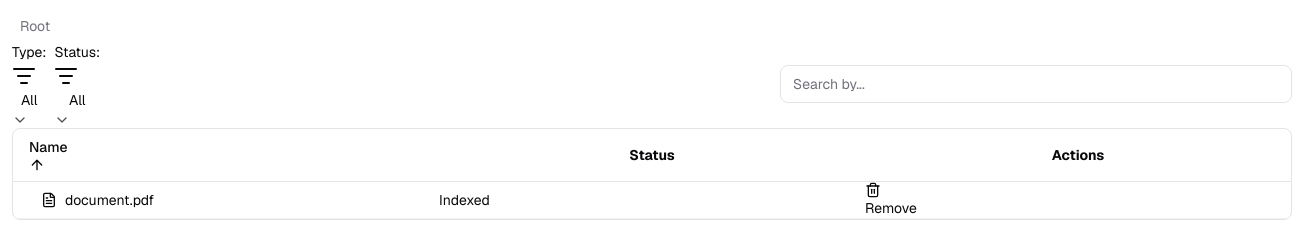
Test case: FilePickerGoogleDriveContainer › Index and Remove › when clicking the Remove button of an indexed file, should immediately change to status Not Indexed and show the Index button, then display a success message
This screenshot has width=1304, height=237.
expect the text "document.pdf" is shown: met, box [65, 190, 154, 210]
expect the text "Indexed" is shown: met, box [439, 191, 490, 209]
Click the button "Remove": (891, 200) [865, 182, 917, 218]
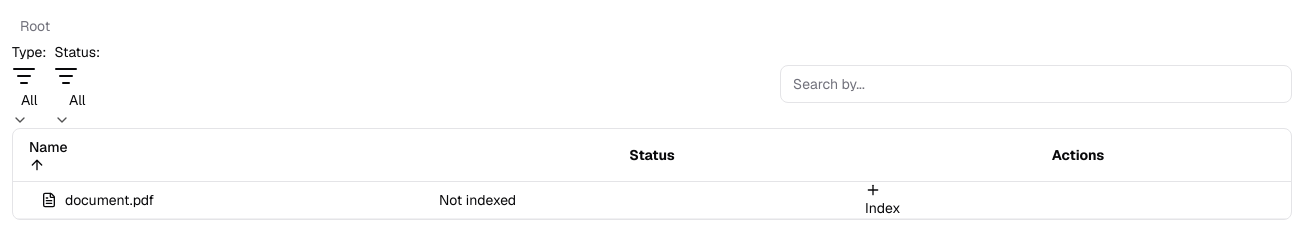
expect the text "Not indexed" is shown: met, box [439, 191, 516, 209]
expect the button "Index" is shown: met, box [865, 182, 900, 218]
